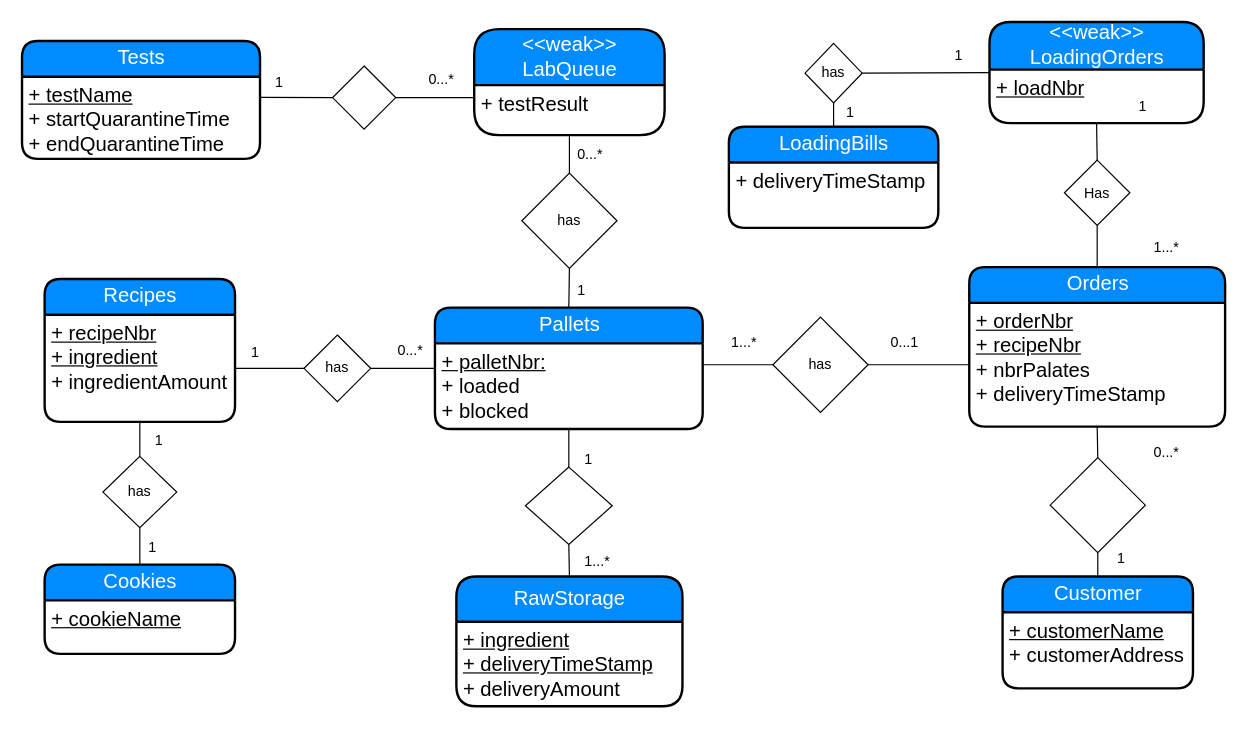
Image size: 1246x747. Some labels were removed from this diagram. Here are the shapes that lost their labels. From the top down, the centre of each, then its label:
At point (363, 97): "uses".
At point (568, 505): "Updates".
At point (1097, 504): "Makes".
